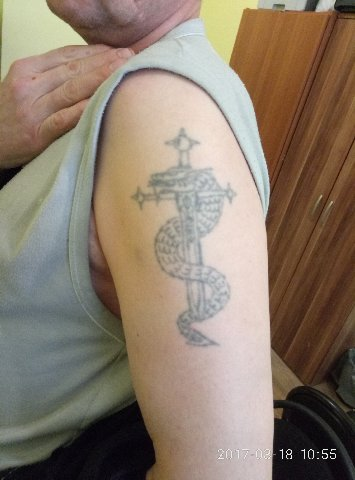tatu7_zmeya: (135, 175, 278, 318)
